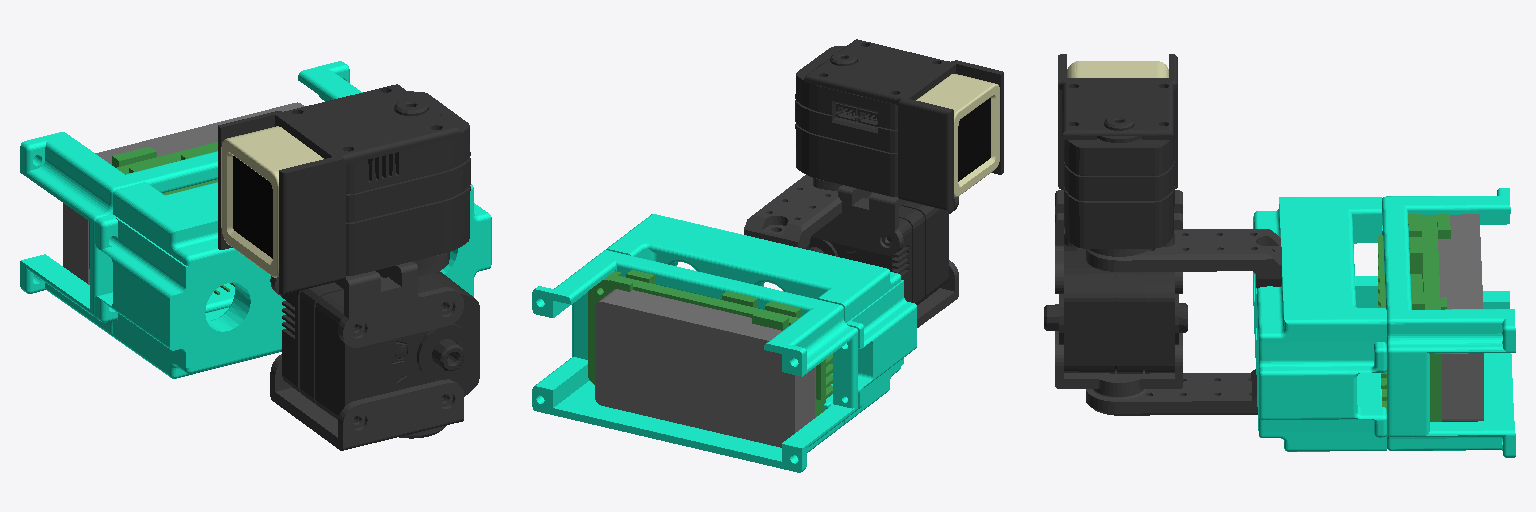
The robot description file, URDF, robot "pitch_yaw_2axis_camera_module":
<?xml version='1.0' encoding='UTF-8'?>
<robot name="pitch_yaw_2axis_camera_module">
  <link name="base_link">
    <inertial>
      <origin xyz="-0.0030968582117174 -0.00381496109163032 0.027711937828682" rpy="0.0 -0.0 0.0"/>
      <mass value="0.0682292397189439"/>
      <inertia ixx="9.27862298038848e-06" ixy="4.58521565230999e-08" ixz="-2.68929981081431e-07" iyy="3.35812259147818e-05" iyz="4.66579090352429e-07" izz="3.6331870862003e-05"/>
    </inertial>
    <visual>
      <geometry>
        <mesh filename="package://pitch_yaw_2axis_camera_module/meshes/base_link.dae"/>
      </geometry>
      <material name=""/>
      <origin xyz="0.0 0.0 0.0" rpy="1.5707963267949003 -0.0 0.0"/>
    </visual>
    <collision>
      <geometry>
        <mesh filename="package://pitch_yaw_2axis_camera_module/meshes/base_link.dae"/>
      </geometry>
      <origin xyz="0.0 0.0 0.0" rpy="1.5707963267949003 -0.0 0.0"/>
    </collision>
  </link>
  <link name="pitch_link">
    <inertial>
      <origin xyz="-0.00981401741340481 -0.0414747351942303 -0.0326143199247289" rpy="0.0 -0.0 0.0"/>
      <mass value="0.141426885579653"/>
      <inertia ixx="1.54543707592918e-05" ixy="2.34946530791964e-07" ixz="-5.87896546063817e-08" iyy="1.83424706964747e-05" iyz="1.12710091549266e-08" izz="1.76834355841634e-05"/>
    </inertial>
    <visual>
      <geometry>
        <mesh filename="package://pitch_yaw_2axis_camera_module/meshes/pitch_link.dae"/>
      </geometry>
      <material name=""/>
      <origin xyz="0.00136170022636987 -0.0339042649699961 -0.0327500000000025" rpy="0.0 -0.0 0.0"/>
    </visual>
    <collision>
      <geometry>
        <mesh filename="package://pitch_yaw_2axis_camera_module/meshes/pitch_link.dae"/>
      </geometry>
      <origin xyz="0.00136170022636987 -0.0339042649699961 -0.0327500000000025" rpy="0.0 -0.0 0.0"/>
    </collision>
  </link>
  <link name="camera_link">
    <inertial>
      <origin xyz="0.00559224708423062 -0.00721019581194205 -0.0219474030843726" rpy="0.0 -0.0 0.0"/>
      <mass value="0.0586571261750076"/>
      <inertia ixx="2.8140032038824e-05" ixy="4.26191163781089e-07" ixz="3.34782886550784e-08" iyy="4.21333471155768e-06" iyz="-6.94990252252355e-09" izz="2.80689681677695e-05"/>
    </inertial>
    <visual>
      <geometry>
        <mesh filename="package://pitch_yaw_2axis_camera_module/meshes/camera_link.dae"/>
      </geometry>
      <material name=""/>
      <origin xyz="0.00136170022636931 -0.00640426496999501 -0.048025" rpy="0.0 -0.0 0.0"/>
    </visual>
    <collision>
      <geometry>
        <mesh filename="package://pitch_yaw_2axis_camera_module/meshes/camera_link.dae"/>
      </geometry>
      <origin xyz="0.00136170022636931 -0.00640426496999501 -0.048025" rpy="0.0 -0.0 0.0"/>
    </collision>
  </link>
  <joint name="pitch_joint" type="continuous">
    <limit effort="0.0" velocity="0.0" lower="0.0" upper="0.0"/>
    <parent link="base_link"/>
    <child link="pitch_link"/>
    <axis xyz=" 0. -1.  0."/>
    <origin xyz="-0.00136170022636987 -0.0327500000000025 0.0339042649699961" rpy="1.5707963267949003 -0.0 0.0"/>
  </joint>
  <joint name="yaw_joint" type="continuous">
    <limit effort="0.0" velocity="0.0" lower="0.0" upper="0.0"/>
    <parent link="pitch_link"/>
    <child link="camera_link"/>
    <axis xyz=" 0.  0. -1."/>
    <origin xyz="0.0 -0.0275000000000011 0.0152749999999975" rpy="0.0 -0.0 0.0"/>
  </joint>
  <material name="">
    <color rgba="0.48627451 0.48627451 0.48627451 1.        "/>
  </material>
</robot>

--- Facts derived from the render (not from the file) ---
3 views of the same robot in one strip: view 1: azimuth 30°, elevation 25°; view 2: azimuth 150°, elevation 25°; view 3: azimuth 270°, elevation 25° (orthographic).
Model pitch_yaw_2axis_camera_module with 3 links and 2 joints (2 continuous), rooted at base_link, posed every joint at zero.
Links seen in each view (by area): view 1: pitch_link, base_link; view 2: base_link, pitch_link; view 3: base_link, pitch_link.
Boxes of the visible links, x1,y1,x2,y2 form: pitch_link: [218, 84, 479, 450]; base_link: [20, 61, 491, 438]; base_link: [532, 175, 916, 472]; pitch_link: [795, 39, 1003, 327]; base_link: [1086, 188, 1515, 457]; pitch_link: [1044, 54, 1187, 392].
Bounding box of the posed robot: 0.079 × 0.1102 × 0.073 m (x, y, z).
Meshes: 3 distinct files referenced, 2 mesh visuals loaded (2 Collada DAE); not drawn: 1 (reference not matched to a file when rendering).